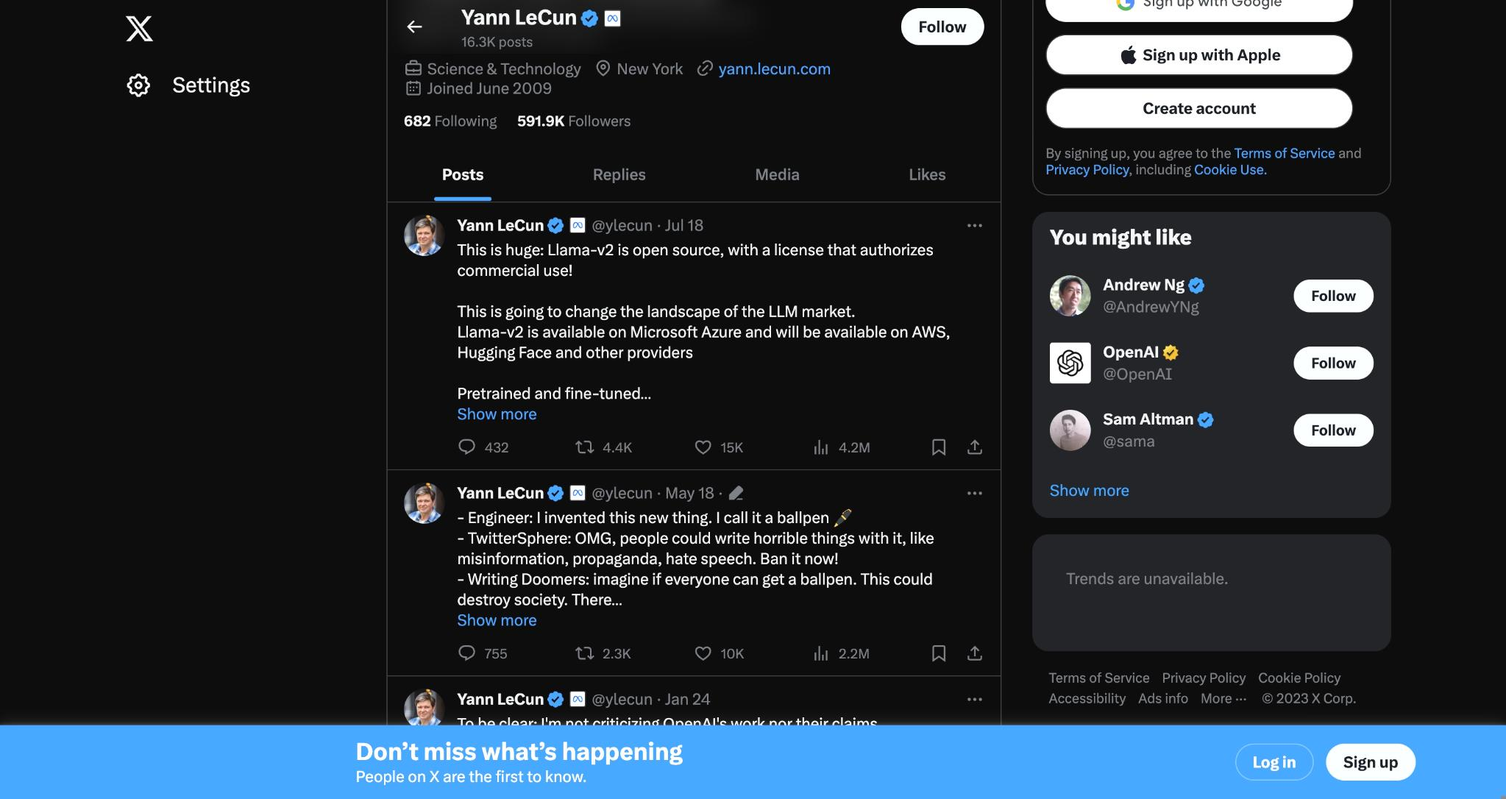webelement: (387, 202, 999, 799), (387, 202, 999, 469), (387, 470, 999, 675), (1033, 213, 1389, 517), (457, 240, 953, 402), (387, 676, 999, 799), (457, 714, 944, 799), (457, 528, 937, 608), (387, 147, 999, 202), (1033, 262, 1389, 330), (1033, 328, 1389, 396), (1033, 396, 1389, 464), (1033, 463, 1389, 516), (1032, 667, 1390, 707), (112, 58, 378, 109), (1045, 34, 1353, 75), (1045, 87, 1353, 128), (457, 436, 984, 456), (457, 643, 984, 663), (457, 404, 984, 423), (457, 610, 984, 629), (355, 737, 682, 766), (538, 147, 700, 200), (699, 147, 853, 200), (387, 147, 537, 200), (1049, 225, 1373, 249), (854, 147, 1000, 200), (457, 508, 832, 526), (614, 15, 774, 44), (355, 766, 585, 785), (1049, 225, 1191, 249), (1326, 742, 1416, 779), (1066, 568, 1228, 587), (901, 7, 984, 44), (427, 58, 581, 77), (1236, 742, 1313, 779), (112, 1, 165, 54), (461, 4, 576, 28), (1143, 45, 1279, 64), (1293, 278, 1373, 310), (1293, 346, 1373, 378), (1293, 413, 1373, 445), (427, 78, 552, 97), (517, 110, 631, 130), (718, 58, 830, 77), (1143, 98, 1255, 117), (655, 20, 758, 39), (172, 72, 249, 96), (1103, 296, 1198, 315), (1103, 409, 1194, 428), (1049, 274, 1090, 315), (457, 215, 544, 234), (404, 214, 444, 255), (404, 482, 444, 523), (404, 688, 444, 729), (1049, 342, 1090, 382), (1049, 409, 1090, 449), (1048, 669, 1150, 685), (1234, 145, 1335, 161), (1262, 689, 1356, 706), (457, 483, 544, 501), (457, 689, 544, 707), (457, 404, 536, 423), (457, 610, 536, 629), (1103, 275, 1184, 293), (1050, 480, 1129, 498), (395, 7, 432, 44), (959, 155, 996, 192), (810, 436, 878, 456), (1162, 669, 1246, 685), (391, 155, 427, 192), (1045, 161, 1128, 177), (574, 436, 640, 456), (811, 643, 877, 663), (1048, 689, 1125, 706), (1258, 669, 1339, 685), (575, 643, 638, 663), (617, 58, 683, 77), (1102, 364, 1171, 382), (457, 436, 516, 456), (692, 643, 751, 663), (693, 436, 751, 456), (457, 643, 515, 663), (1194, 161, 1266, 177), (591, 215, 651, 234), (591, 483, 651, 501), (591, 689, 651, 707), (592, 164, 645, 184), (434, 112, 496, 129), (567, 112, 629, 129), (1200, 689, 1261, 706), (1103, 342, 1159, 360), (1343, 752, 1398, 770), (665, 482, 714, 502), (1102, 431, 1155, 449), (665, 688, 711, 708), (755, 164, 800, 184), (1137, 689, 1187, 706), (919, 17, 966, 35), (441, 164, 483, 184), (517, 112, 564, 129), (1253, 752, 1296, 770), (665, 214, 703, 234), (909, 164, 945, 184), (1311, 286, 1356, 302), (1311, 354, 1356, 370), (1311, 421, 1356, 437), (1200, 689, 1232, 706), (838, 439, 870, 455), (838, 645, 869, 661), (603, 439, 632, 455), (602, 645, 631, 661), (403, 112, 430, 129), (579, 8, 599, 28), (484, 439, 509, 455), (720, 645, 744, 661), (965, 214, 984, 234), (929, 436, 948, 456), (965, 436, 984, 456), (965, 482, 984, 502), (929, 643, 948, 663), (965, 643, 984, 663), (965, 688, 984, 708), (1161, 341, 1180, 361), (546, 215, 565, 234), (546, 482, 565, 501), (546, 689, 565, 708), (1186, 275, 1205, 294), (1196, 410, 1215, 429), (720, 439, 742, 455), (484, 645, 506, 661), (727, 483, 745, 501), (834, 508, 852, 526), (605, 10, 619, 24), (570, 217, 584, 231), (570, 485, 584, 499), (570, 691, 584, 705), (718, 483, 722, 501), (657, 215, 660, 234), (657, 483, 660, 501), (657, 689, 660, 707)
